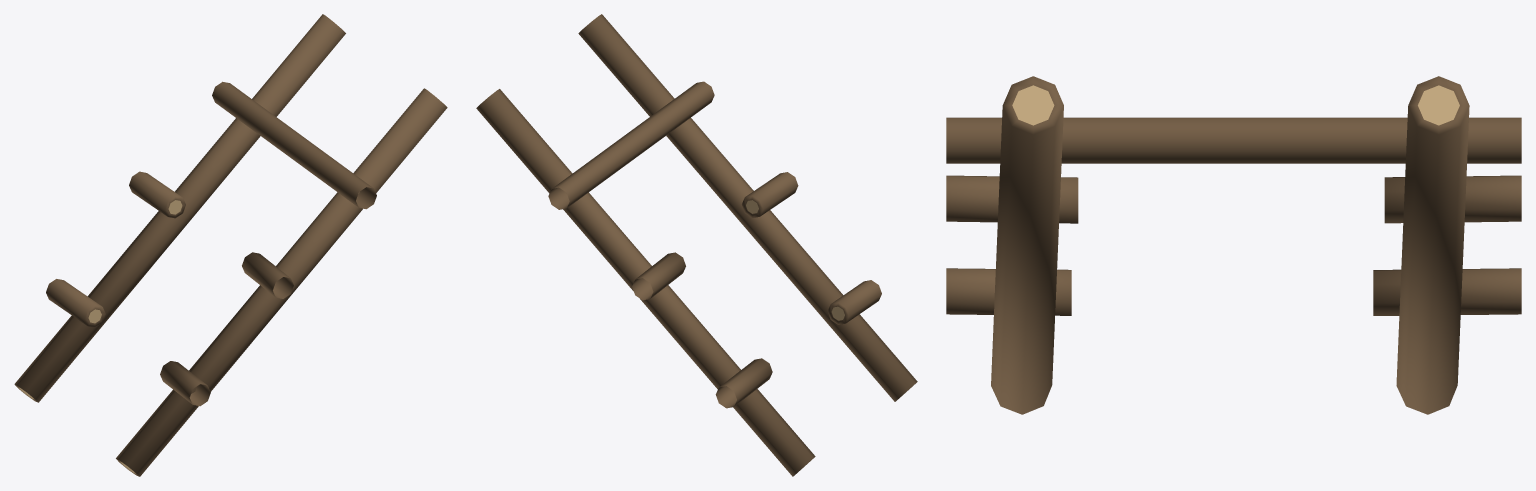
File: rpgpp_ag_roof_support_01_6x3x3_half_a_roof_01e.fbx
3 renders of one model, left to right at view 1: azimuth 30°, elevation 25°; view 2: azimuth 150°, elevation 25°; view 3: azimuth 270°, elevation 25°, orthographic. The views are drawn at different scales.
Parts seen in each view (by area): view 1: rpgpp_ag_roof_support_01_6x3x3_half_a_roof_01e; view 2: rpgpp_ag_roof_support_01_6x3x3_half_a_roof_01e; view 3: rpgpp_ag_roof_support_01_6x3x3_half_a_roof_01e.
Part boxes in pixels (x1,y1,x2,y2): rpgpp_ag_roof_support_01_6x3x3_half_a_roof_01e: (14, 14, 447, 476); rpgpp_ag_roof_support_01_6x3x3_half_a_roof_01e: (476, 14, 917, 476); rpgpp_ag_roof_support_01_6x3x3_half_a_roof_01e: (946, 76, 1521, 414).
Bounding box in the file's own units: 3.96 × 3.59 × 3.
